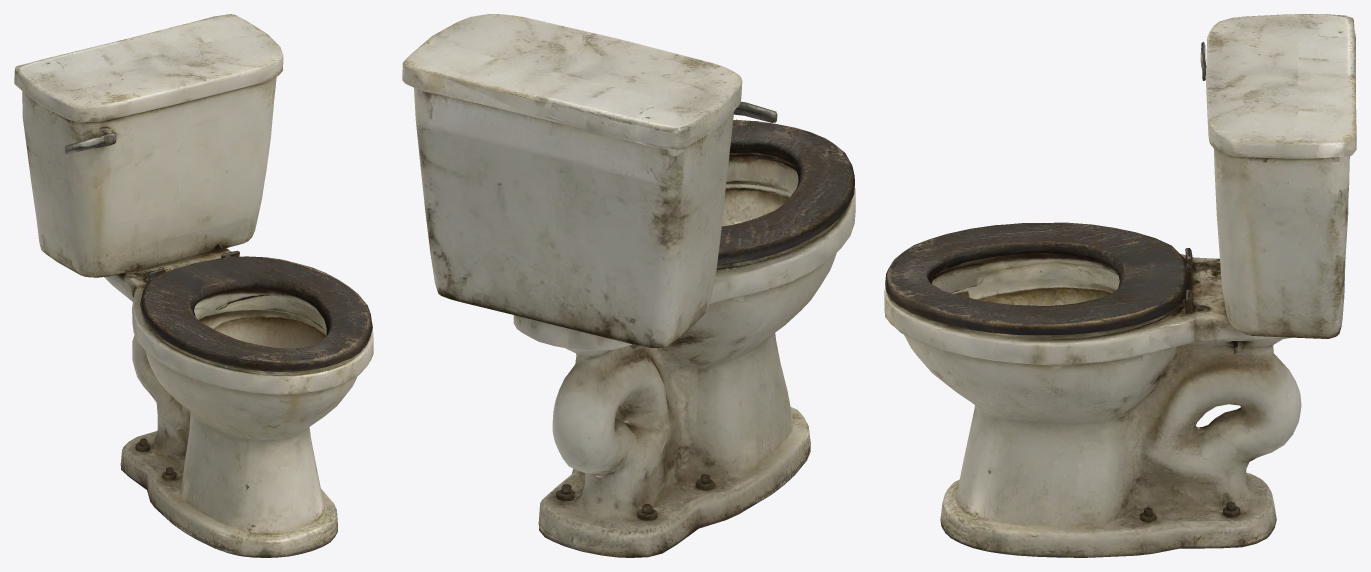
The model's file is dirtytoilet.glb.
3 renders of one model, left to right at view 1: azimuth 30°, elevation 25°; view 2: azimuth 150°, elevation 25°; view 3: azimuth 270°, elevation 25°, orthographic. The views are drawn at different scales.
Parts seen in each view (by area): view 1: mesh_node; view 2: mesh_node; view 3: mesh_node.
Part boxes in pixels (bbox=[...]): mesh_node: bbox=[14, 14, 373, 557]; mesh_node: bbox=[402, 14, 855, 557]; mesh_node: bbox=[884, 14, 1356, 557].
Size of the model in its own units: 0.4863 by 0.75 by 0.7266.
1 material, 1 textured.
